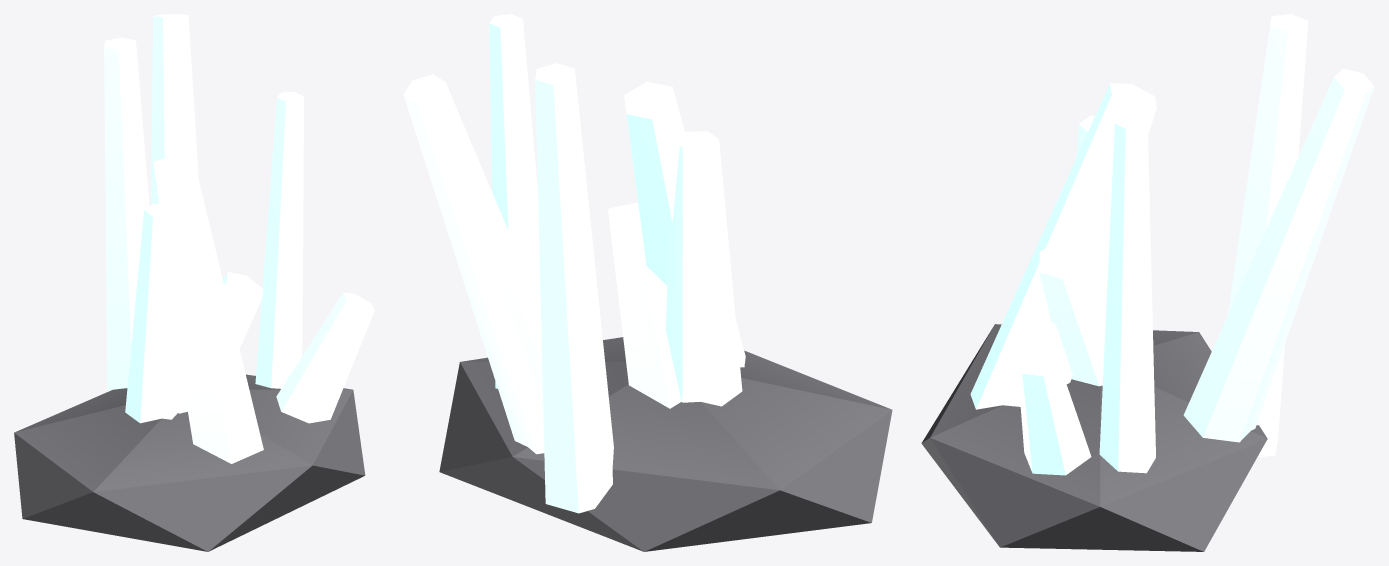
The model's file is crystal_vein_a.43c1cf5b.glb.
The picture shows the model from 3 angles, left to right: view 1: azimuth 30°, elevation 25°; view 2: azimuth 150°, elevation 25°; view 3: azimuth 270°, elevation 25°; orthographic projection. The views are drawn at different scales.
Visible parts, largest first — view 1: crystal_vein_a; view 2: crystal_vein_a; view 3: crystal_vein_a.
Boxes of the visible parts, x1,y1,x2,y2 form: crystal_vein_a: [14, 14, 374, 551]; crystal_vein_a: [403, 14, 892, 551]; crystal_vein_a: [921, 14, 1374, 551].
Size of the model in its own units: 0.8483 by 1.02 by 0.8357.
